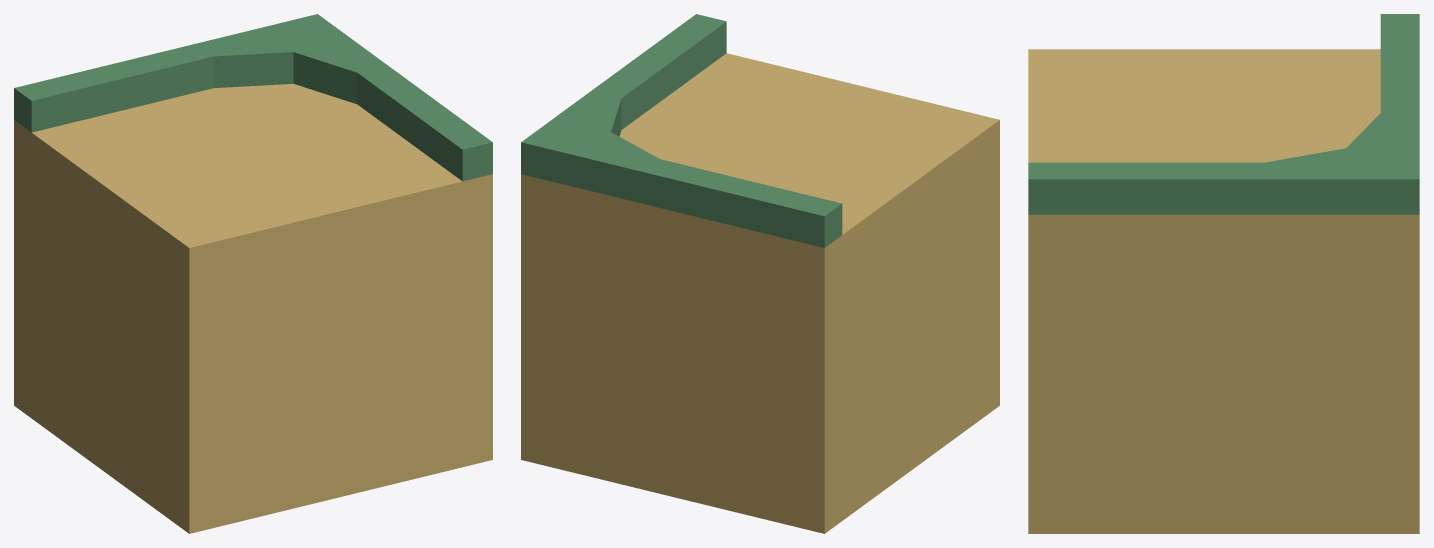
Rendered from path-corner-outer.glb.
3 renders of one model, left to right at view 1: azimuth 30°, elevation 25°; view 2: azimuth 150°, elevation 25°; view 3: azimuth 270°, elevation 25°, orthographic. The views are drawn at different scales.
Visible parts, largest first — view 1: Path - Corner Outer; view 2: Path - Corner Outer; view 3: Path - Corner Outer.
Boxes of the visible parts, x1=… form: Path - Corner Outer: x1=14, y1=14, x2=492, y2=533; Path - Corner Outer: x1=521, y1=14, x2=999, y2=533; Path - Corner Outer: x1=1028, y1=14, x2=1419, y2=533.
Size of the model in its own units: 1 by 1 by 1.
